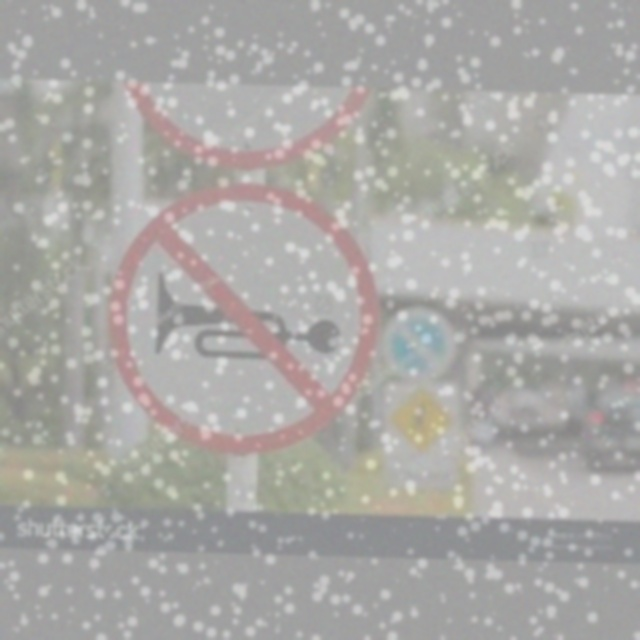Horn_Prohibited: (123, 185, 369, 449)
